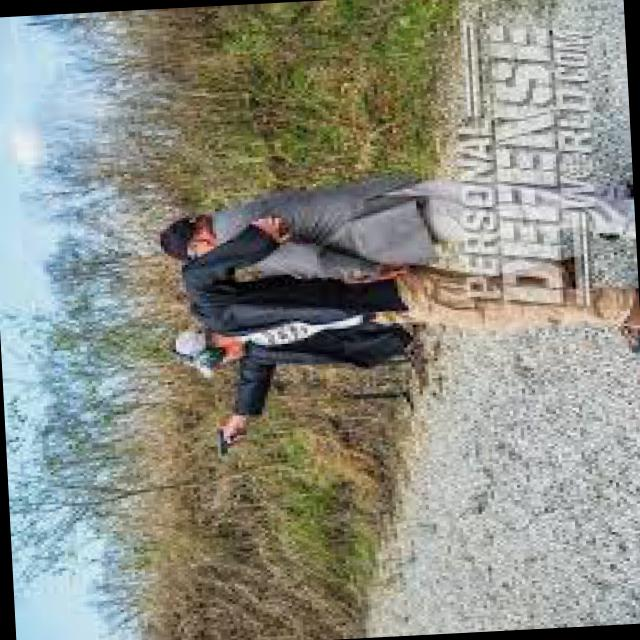handgun: (210, 434, 245, 466)
